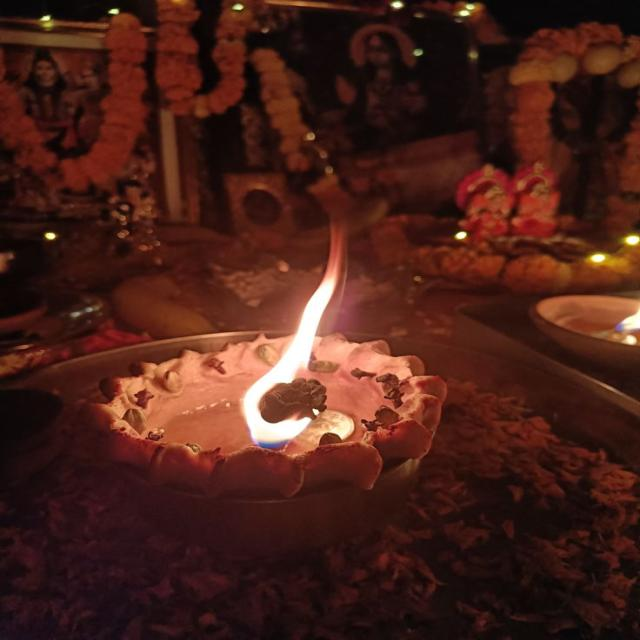fire: (242, 222, 343, 451)
